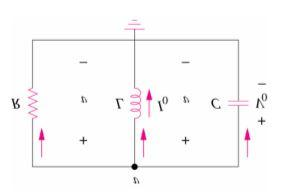inductor: (128, 80, 144, 123)
